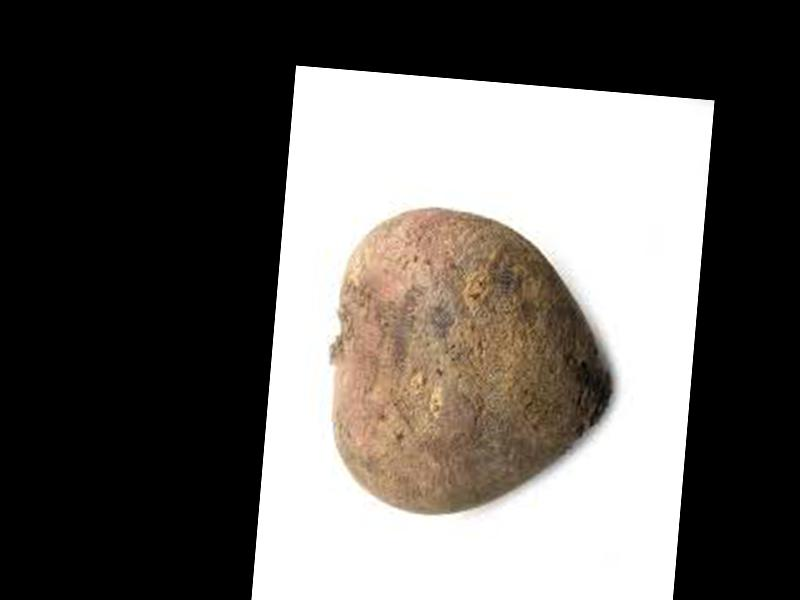Beet: (320, 199, 624, 530)
